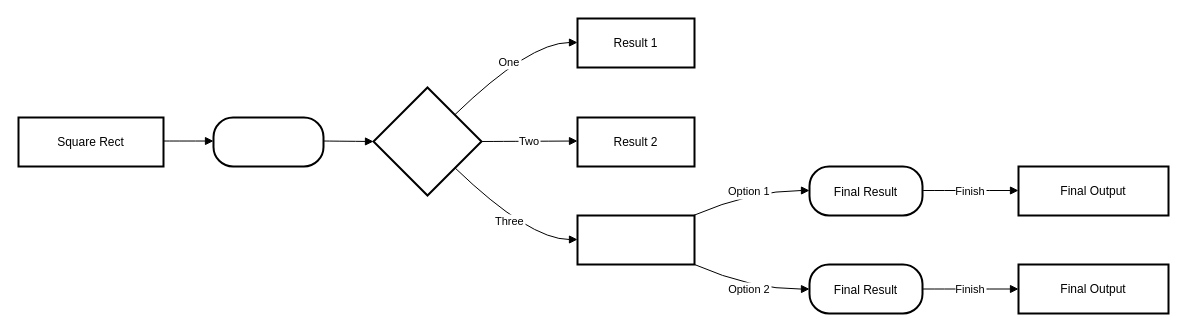
The diagram is 1186 pixels wide and 331 high, and some of its shapes have lost their labels. The centre of each missing label's shape, as x and y in pixels:
"Decision" belongs at point 427,141.
"Result 3" belongs at point 635,239.
"Round Rect" belongs at point 268,141.
